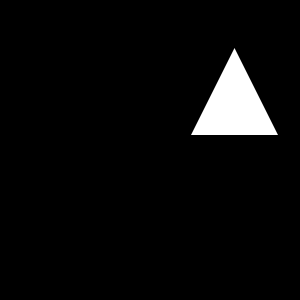triangle: (191, 48, 278, 135)
